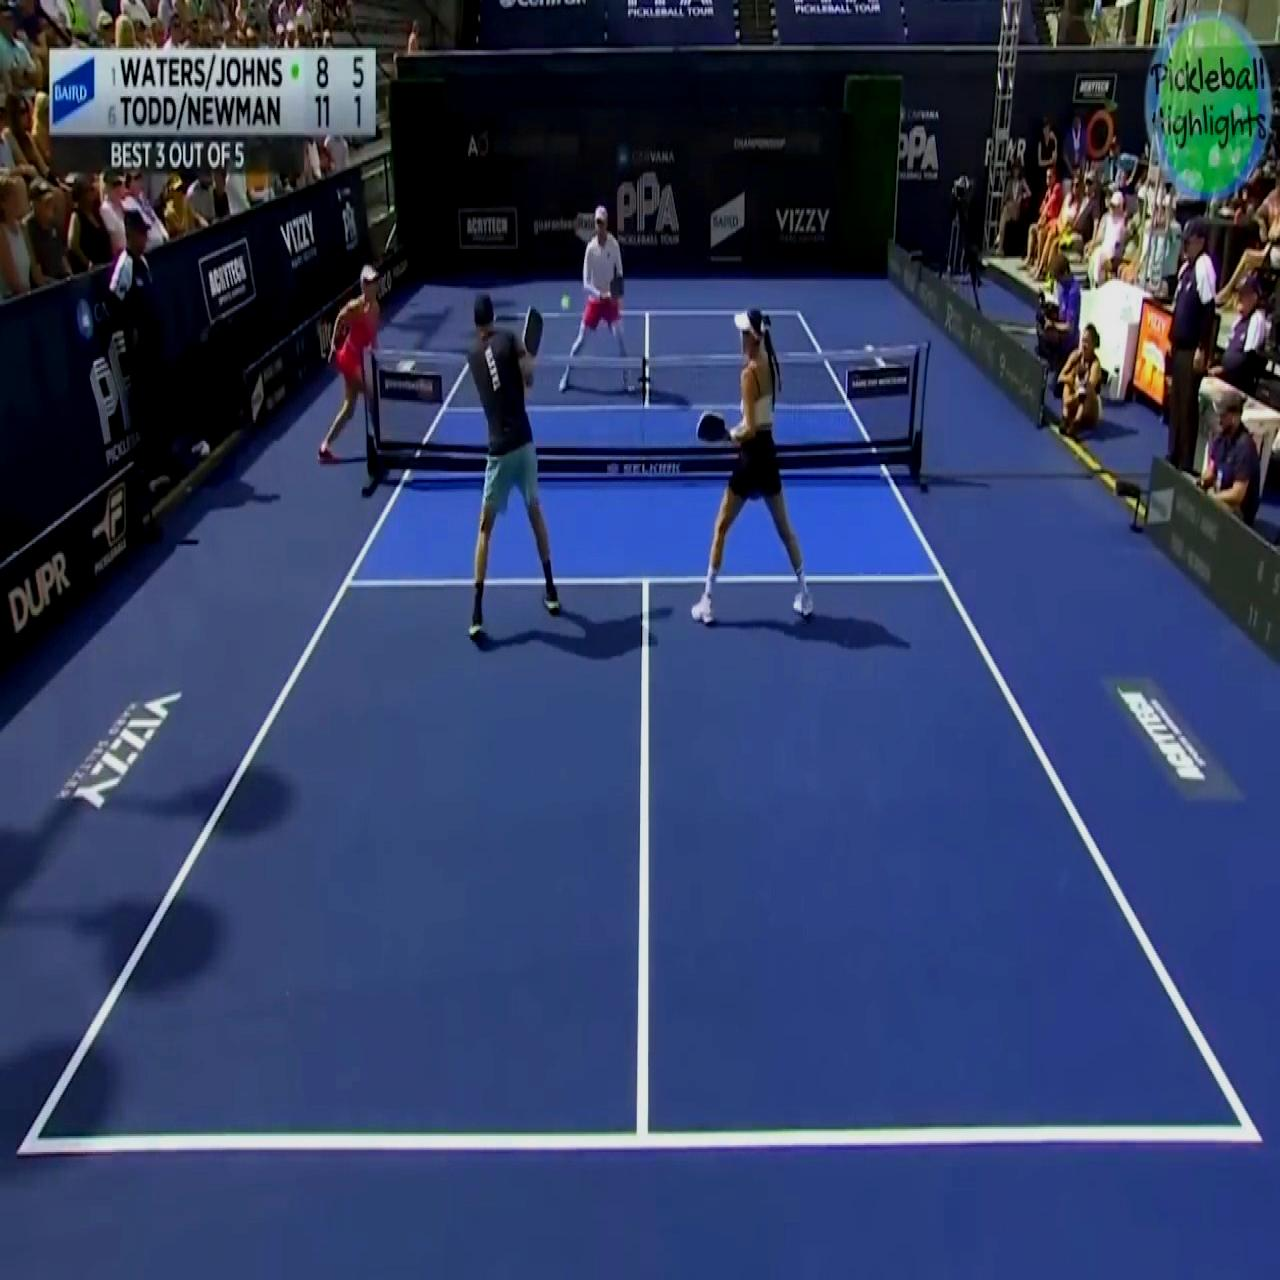Pickleball: (557, 288, 571, 315)
